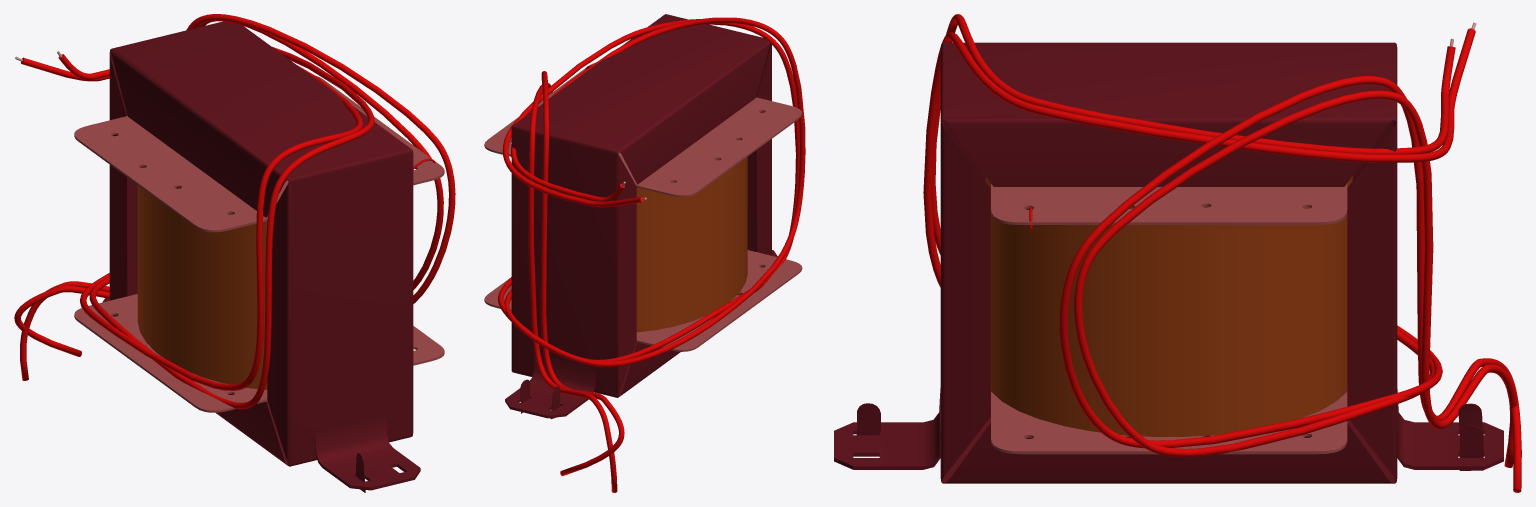
The model's file is transf2.fbx.
3 renders of one model, left to right at view 1: azimuth 30°, elevation 25°; view 2: azimuth 150°, elevation 25°; view 3: azimuth 270°, elevation 25°, orthographic. The views are drawn at different scales.
Parts seen in each view (by area): view 1: transf2_LOD0; view 2: transf2_LOD0; view 3: transf2_LOD0.
Part boxes in pixels (left/top/right/bottom): transf2_LOD0: left=14, top=14, right=455, bottom=492; transf2_LOD0: left=484, top=14, right=805, bottom=492; transf2_LOD0: left=834, top=14, right=1521, bottom=492.
Size of what is drawn, in the model's own units: 2.46 by 3.16 by 4.09.
